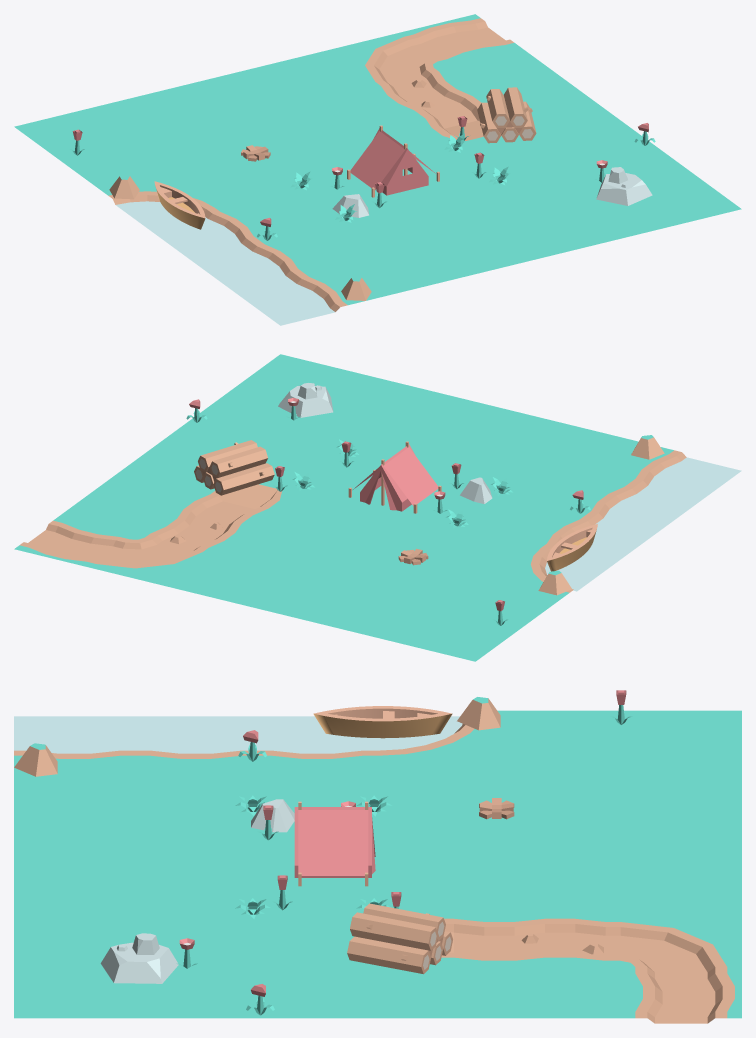
The model's file is new_world_ver2.glb.
The picture shows the model from 3 angles, top to bottom: view 1: azimuth 30°, elevation 25°; view 2: azimuth 150°, elevation 25°; view 3: azimuth 270°, elevation 25°; orthographic projection. The views are drawn at different scales.
Visible parts, largest first — view 1: ground_riverSide.001, ground_riverSide.002, ground_pathBend, ground_pathStraight, ground_pathRocks, ground_grass.002, ground_grass.011, ground_grass.012, ground_grass.016, ground_grass.017, ground_grass.018, ground_grass.019 (+31 smaller); view 2: ground_riverSide.001, ground_riverSide.002, ground_grass.011, ground_grass.018, ground_grass.016, ground_grass.021, ground_grass.012, ground_grass.015, ground_grass.017, ground_grass.002, ground_pathStraight, ground_grass.001 (+31 smaller); view 3: ground_pathBend, ground_grass.016, ground_grass.017, ground_grass.018, ground_grass.021, ground_pathRocks, ground_grass.002, ground_grass.011, ground_grass.012, ground_pathStraight, ground_grass, ground_grass.001 (+32 smaller).
Boxes of the visible parts, box(x1,y1,x2,y2) form: ground_riverSide.001: box(192, 239, 312, 293); ground_riverSide.002: box(236, 270, 356, 325); ground_pathBend: box(322, 33, 442, 83); ground_pathStraight: box(399, 14, 519, 65); ground_pathRocks: box(366, 65, 486, 116); ground_grass.002: box(91, 89, 211, 140); ground_grass.011: box(168, 70, 288, 121); ground_grass.012: box(390, 233, 510, 284); ground_grass.016: box(289, 84, 409, 135); ground_grass.017: box(245, 51, 365, 102); ground_grass.018: box(467, 214, 587, 265); ground_grass.019: box(422, 182, 543, 232); ground_riverSide.001: box(577, 480, 696, 535); ground_riverSide.002: box(621, 448, 741, 503); ground_grass.011: box(245, 573, 365, 624); ground_grass.018: box(390, 391, 510, 442); ground_grass.016: box(212, 522, 333, 572); ground_grass.021: box(59, 484, 178, 535); ground_grass.012: box(467, 410, 587, 461); ground_grass.015: box(257, 489, 377, 540); ground_grass.017: box(168, 554, 288, 605); ground_grass.002: box(322, 592, 442, 642); ground_pathStraight: box(14, 516, 134, 567); ground_grass.001: box(399, 610, 519, 661); ground_pathBend: box(620, 915, 741, 972); ground_grass.016: box(499, 864, 620, 915); ground_grass.017: box(620, 864, 741, 915); ground_grass.018: box(14, 864, 135, 915); ground_grass.021: box(499, 967, 620, 1018); ground_pathRocks: box(499, 915, 620, 966); ground_grass.002: box(620, 762, 741, 813); ground_grass.011: box(620, 813, 741, 864); ground_grass.012: box(14, 813, 135, 864); ground_pathStraight: box(620, 967, 741, 1023); ground_grass: box(499, 710, 620, 761); ground_grass.001: box(620, 710, 741, 761).
Bounding box in the file's own units: 6 × 0.6111 × 6.
